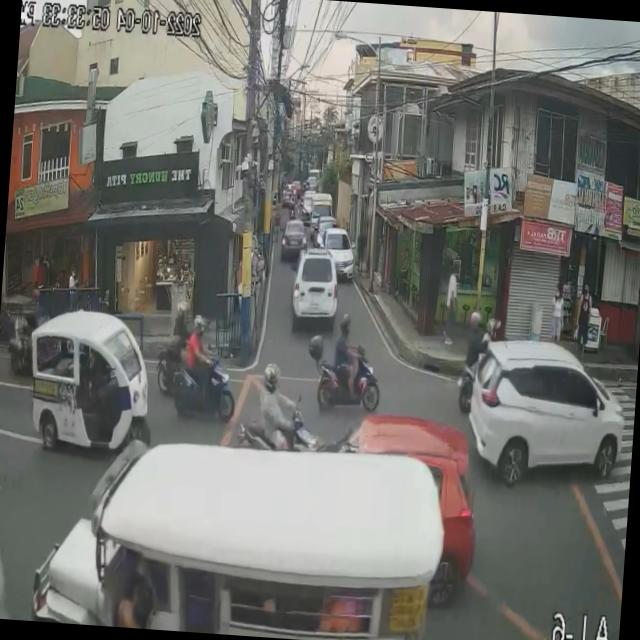full: (262, 360, 281, 392), (486, 316, 500, 338), (176, 298, 188, 322), (339, 314, 352, 336), (194, 312, 206, 334)
half: (468, 312, 482, 333)
